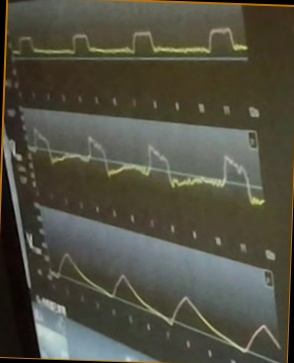Accumulation Flow: (29, 123, 264, 207)
Volume: (51, 249, 281, 354)
